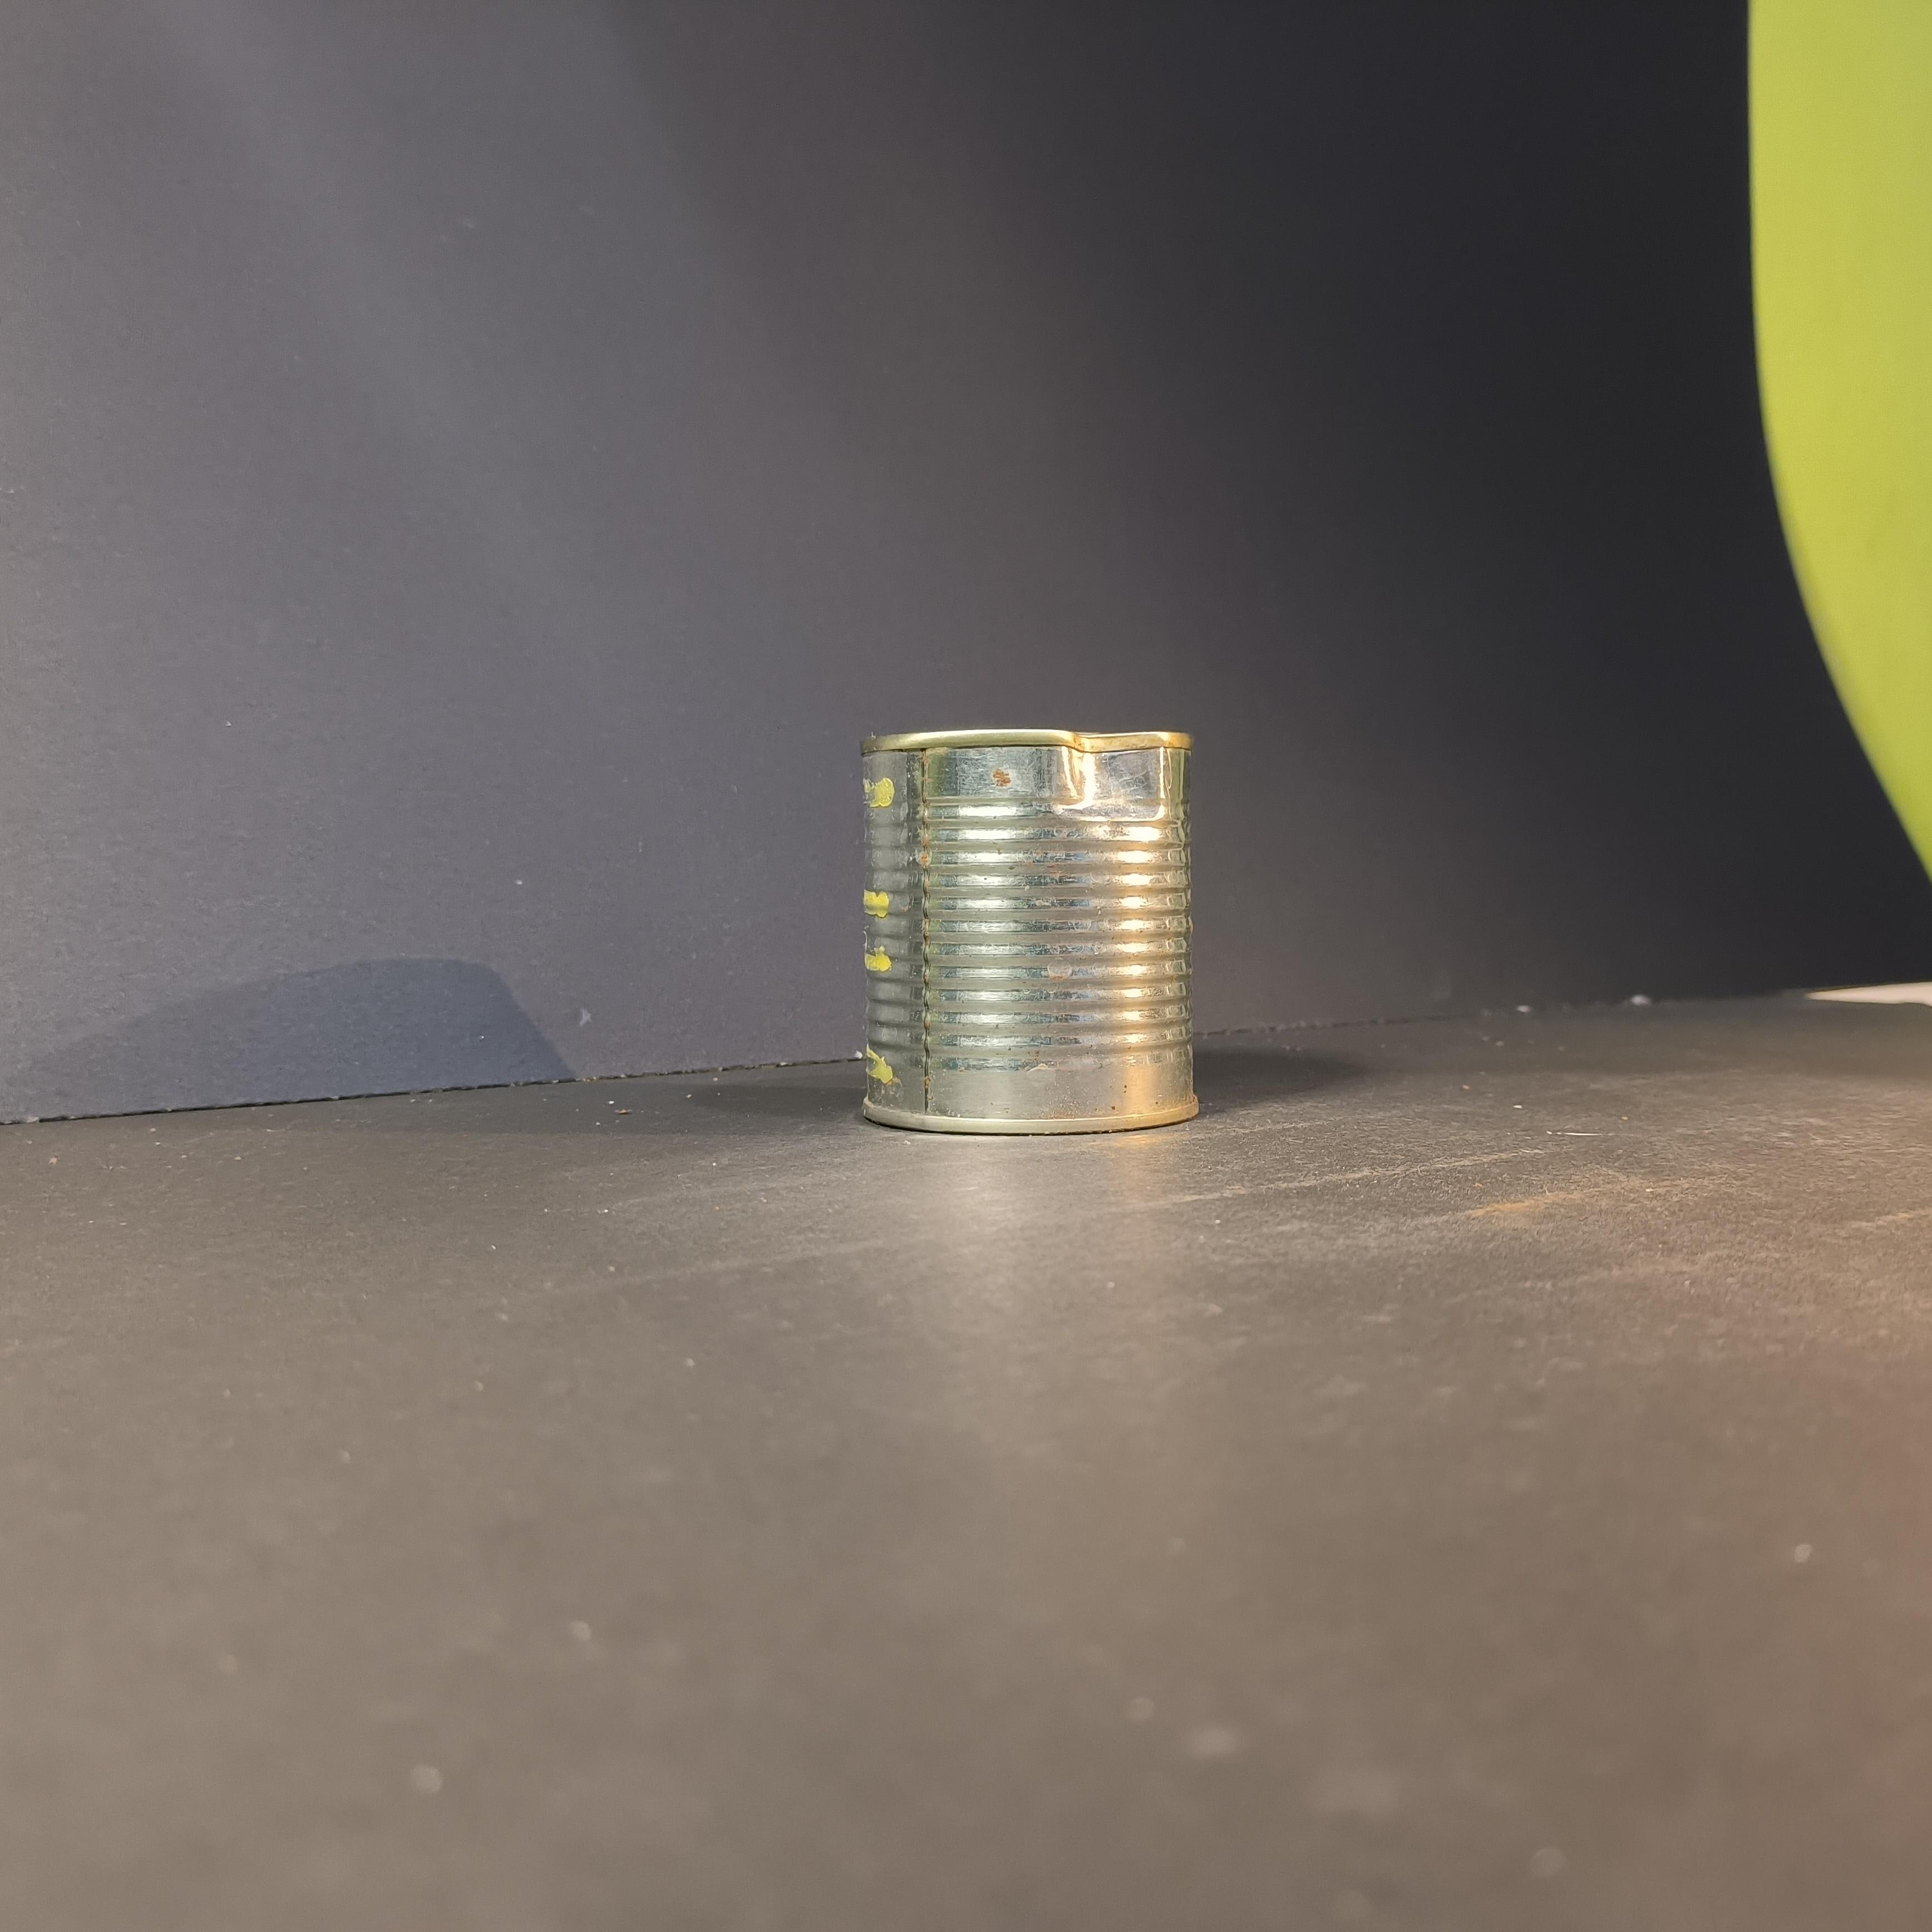Dented: (840, 701, 1219, 1168)
